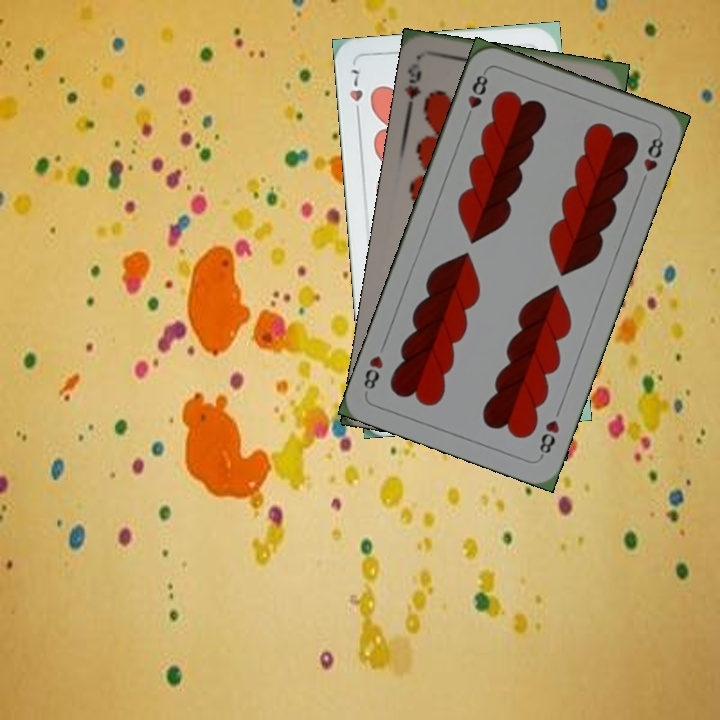H7: (345, 65, 366, 122)
H8: (462, 67, 491, 124), (535, 416, 562, 460)
H9: (401, 59, 424, 115)
